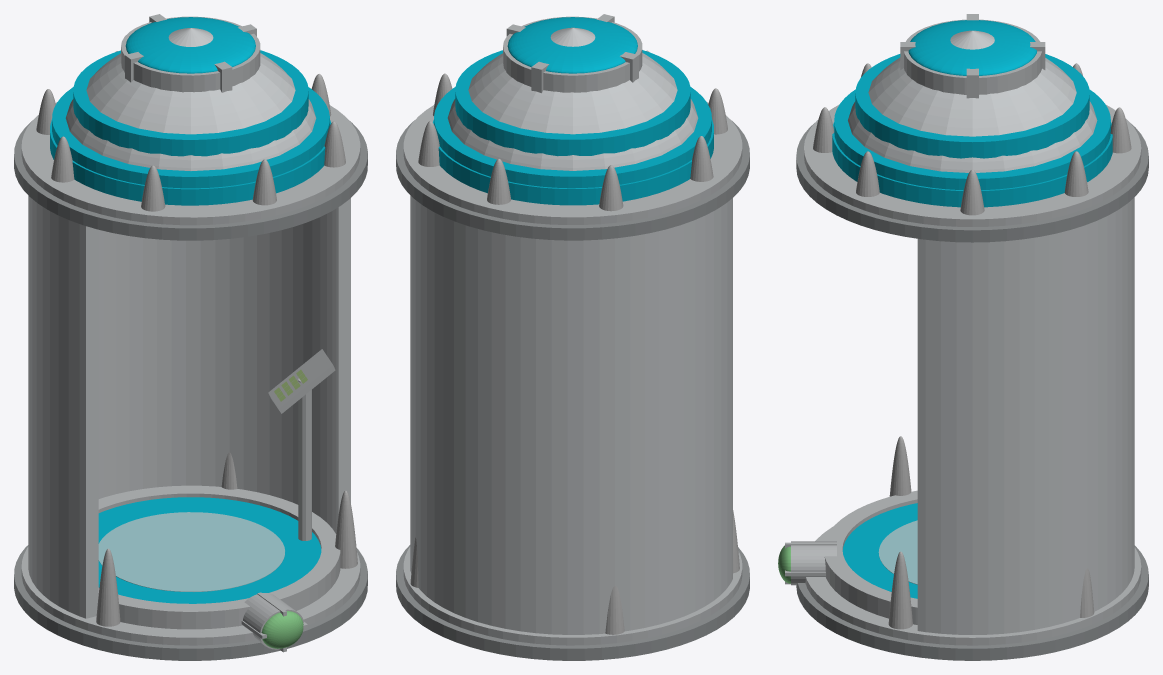
File: teleporter.glb
3 renders of one model, left to right at view 1: azimuth 30°, elevation 25°; view 2: azimuth 150°, elevation 25°; view 3: azimuth 270°, elevation 25°, orthographic.
Visible parts, largest first — view 1: Mesh_Mesh_head_geo.001_lambert2SG.001; view 2: Mesh_Mesh_head_geo.001_lambert2SG.001; view 3: Mesh_Mesh_head_geo.001_lambert2SG.001.
Boxes of the visible parts, x1,y1,x2,y2 form: Mesh_Mesh_head_geo.001_lambert2SG.001: [14, 14, 367, 660]; Mesh_Mesh_head_geo.001_lambert2SG.001: [396, 14, 749, 660]; Mesh_Mesh_head_geo.001_lambert2SG.001: [778, 14, 1148, 660].
Size of the model in its own units: 271 by 471 by 285.
